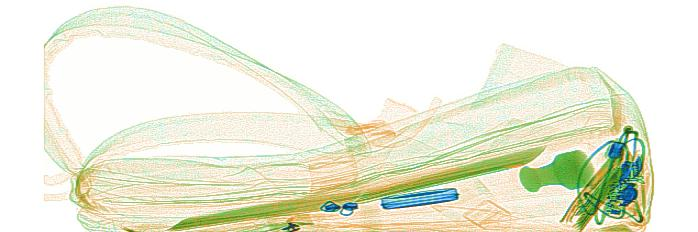seal: (517, 147, 596, 192)
